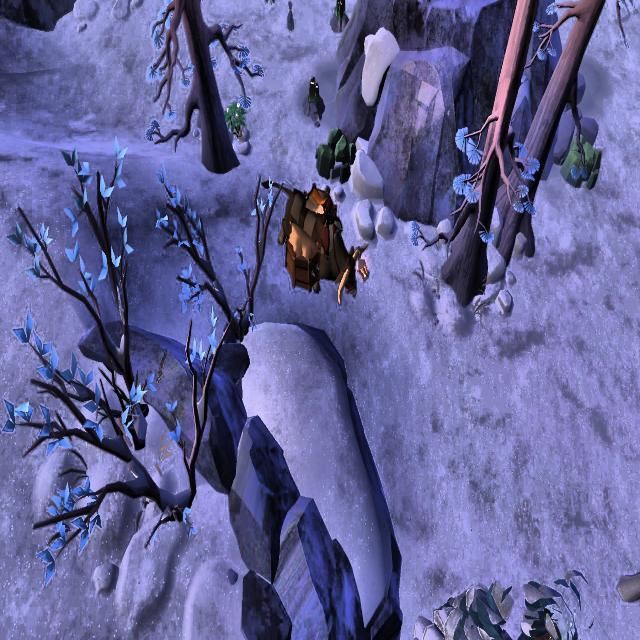fiber_t3: (222, 95, 248, 137)
ore_t3: (305, 71, 322, 108), (333, 0, 350, 27)
rock_t3: (312, 121, 361, 186), (561, 128, 604, 191)
